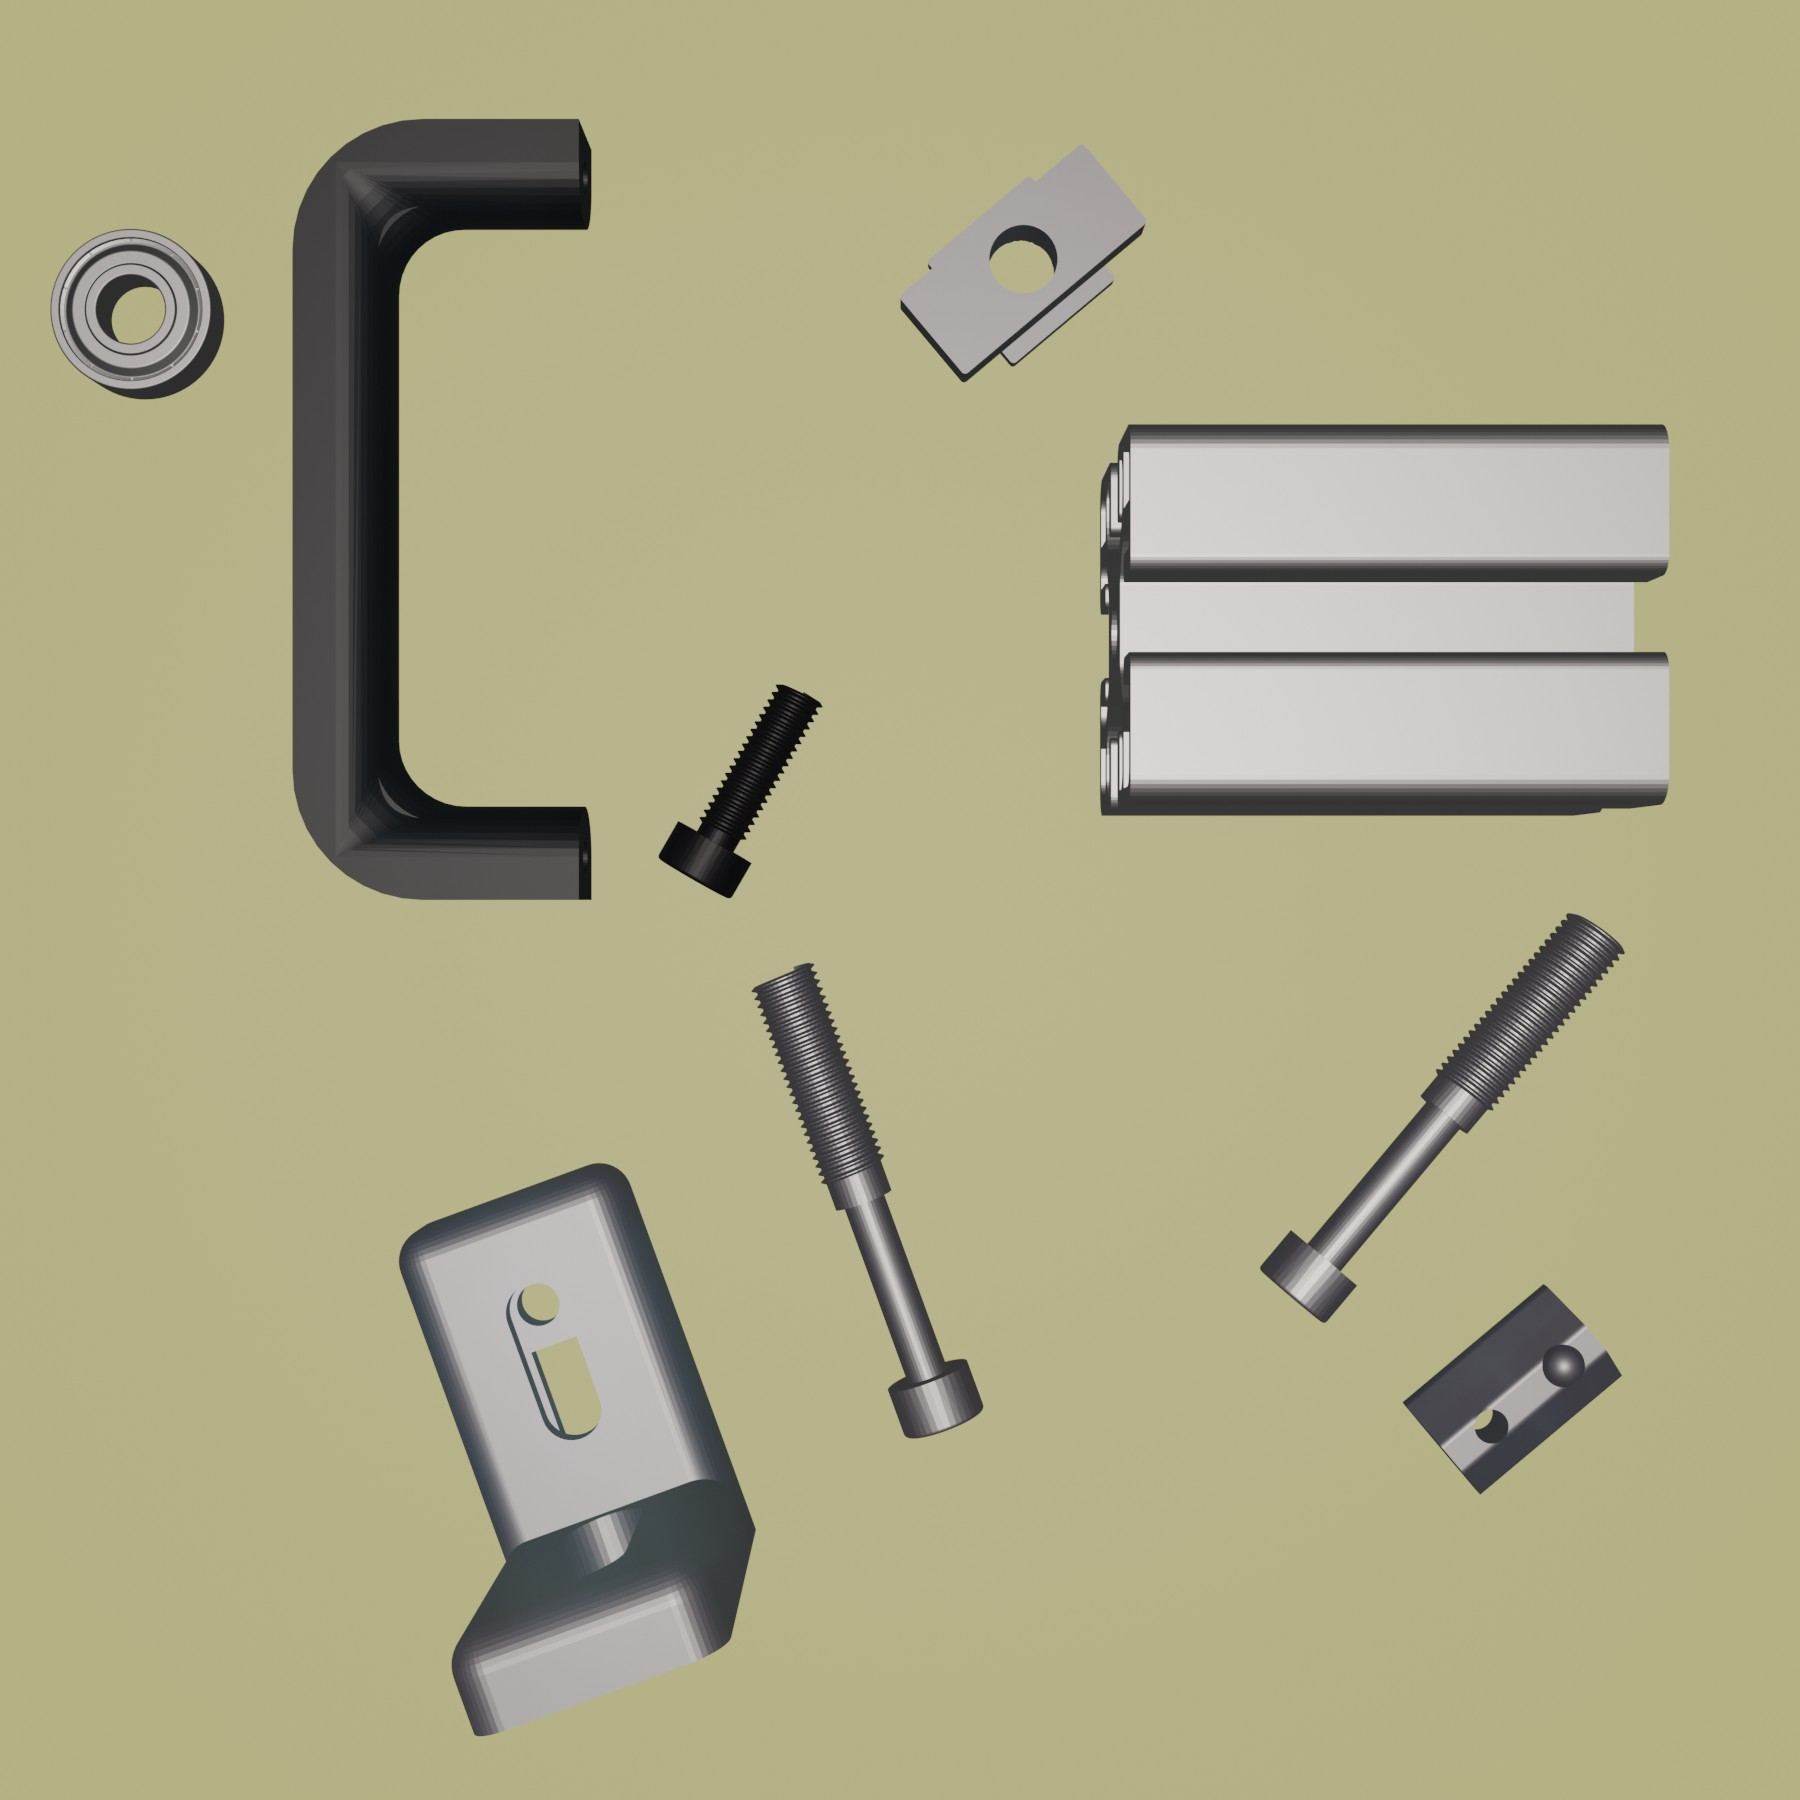Aluminium Extension: (1091, 414, 1680, 823)
Ball Bearing: (48, 223, 227, 401)
Multiwinkel: (397, 1160, 758, 1737)
Pull Handle: (287, 110, 597, 905)
Shoulder Socket Head Cap Screw: (1254, 908, 1625, 1324), (750, 958, 986, 1439)
Socket Head Cap Screw: (654, 681, 824, 905)
T Nut Square: (897, 138, 1151, 387)
T Spring Nut: (1399, 1281, 1624, 1497)
